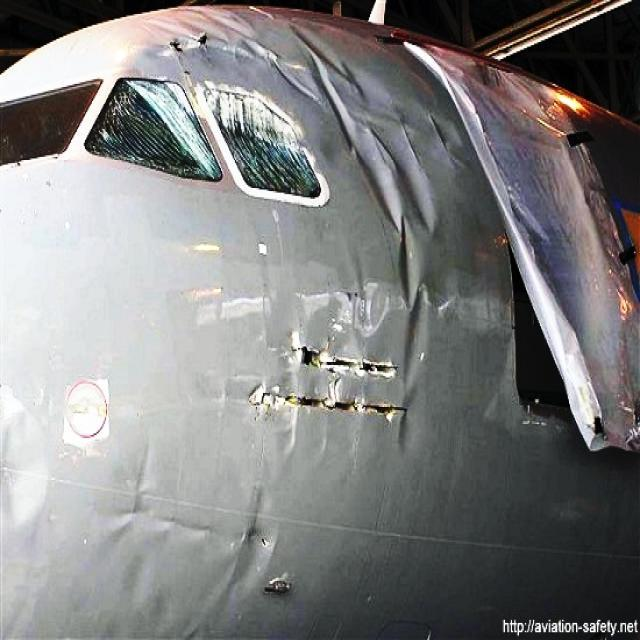crack: (251, 340, 411, 430)
